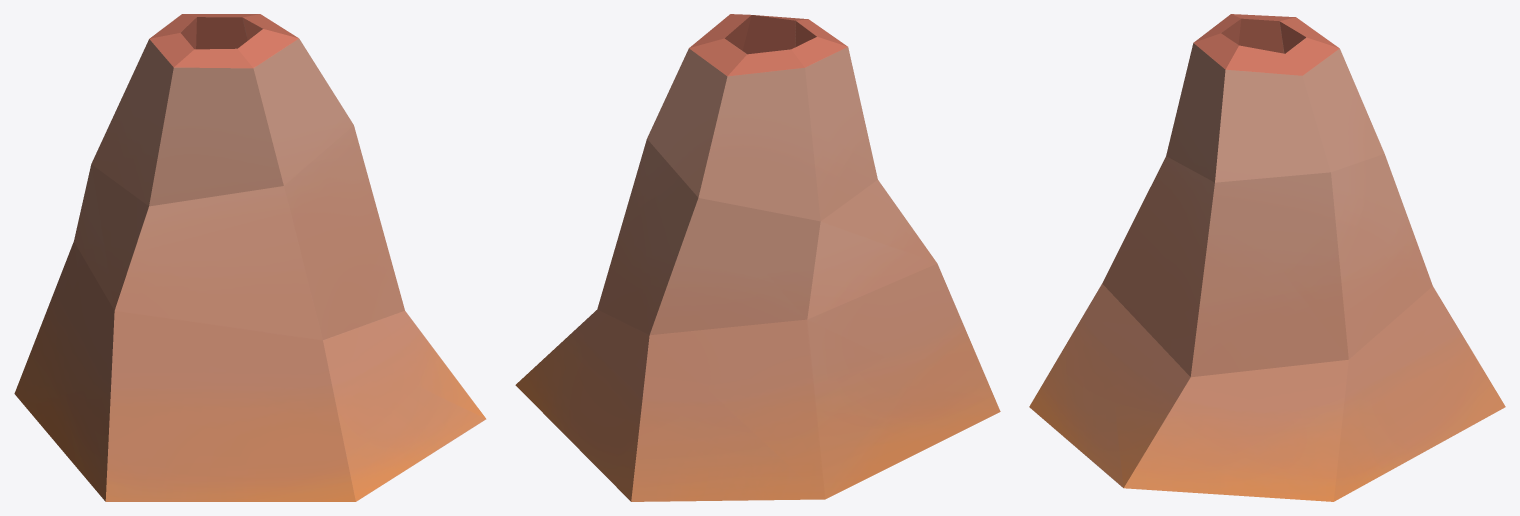
Rendered from vulcao-3.fbx.
3 renders of one model, left to right at view 1: azimuth 30°, elevation 25°; view 2: azimuth 150°, elevation 25°; view 3: azimuth 270°, elevation 25°, orthographic. The views are drawn at different scales.
Visible parts, largest first — view 1: vulcao-3; view 2: vulcao-3; view 3: vulcao-3.
Part boxes in pixels (x1,y1,x2,y2): vulcao-3: [14, 14, 486, 501]; vulcao-3: [515, 14, 1000, 501]; vulcao-3: [1029, 14, 1505, 501].
Bounding box in the file's own units: 411 × 386 × 450.
